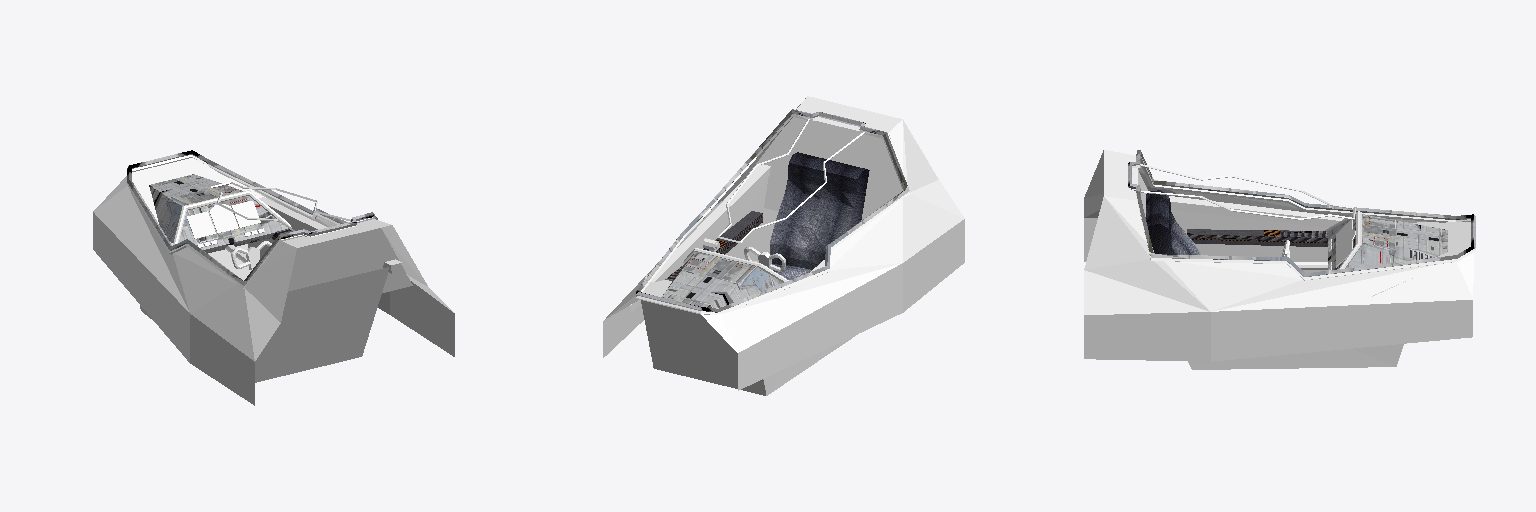
3 views of the same model, side by side, from view 1: azimuth 30°, elevation 25°; view 2: azimuth 150°, elevation 25°; view 3: azimuth 270°, elevation 25° (orthographic).
Visible parts, largest first — view 1: panels, ashphalt, wpanels; view 2: panels, ashphalt, blackleather, wpanels, angar; view 3: panels, ashphalt, wpanels, angar, blackleather.
Boxes of the visible parts, x1,y1,x2,y2 form: panels: [93, 176, 454, 405]; ashphalt: [127, 155, 412, 382]; wpanels: [127, 150, 377, 285]; panels: [603, 96, 964, 390]; ashphalt: [630, 114, 909, 395]; blackleather: [770, 152, 869, 279]; wpanels: [636, 109, 909, 312]; angar: [665, 211, 762, 280]; panels: [1084, 150, 1473, 361]; ashphalt: [1128, 157, 1475, 369]; wpanels: [1128, 150, 1475, 276]; angar: [1187, 229, 1327, 246]; blackleather: [1146, 190, 1201, 254].
Size of the model in its own units: 23.32 by 18.54 by 39.32.
Materials: 6 (3 with a texture image).